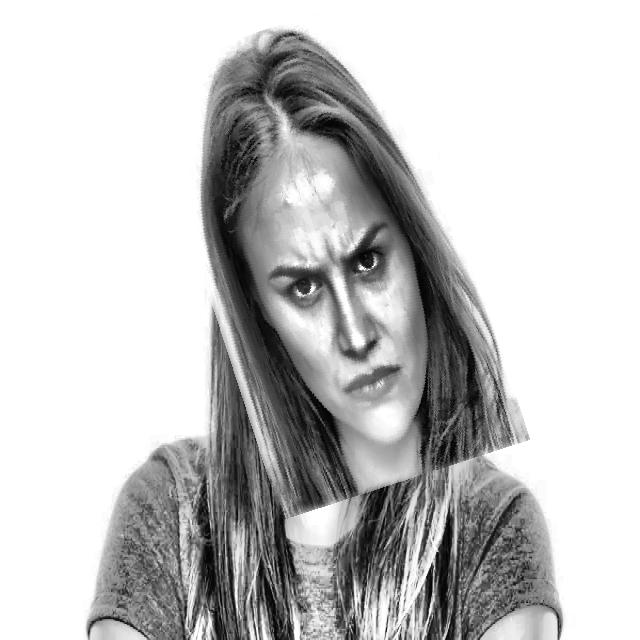angry: (170, 5, 497, 505)
